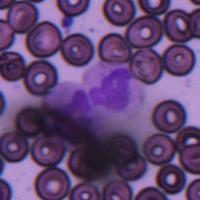N: (80, 61, 145, 140)
